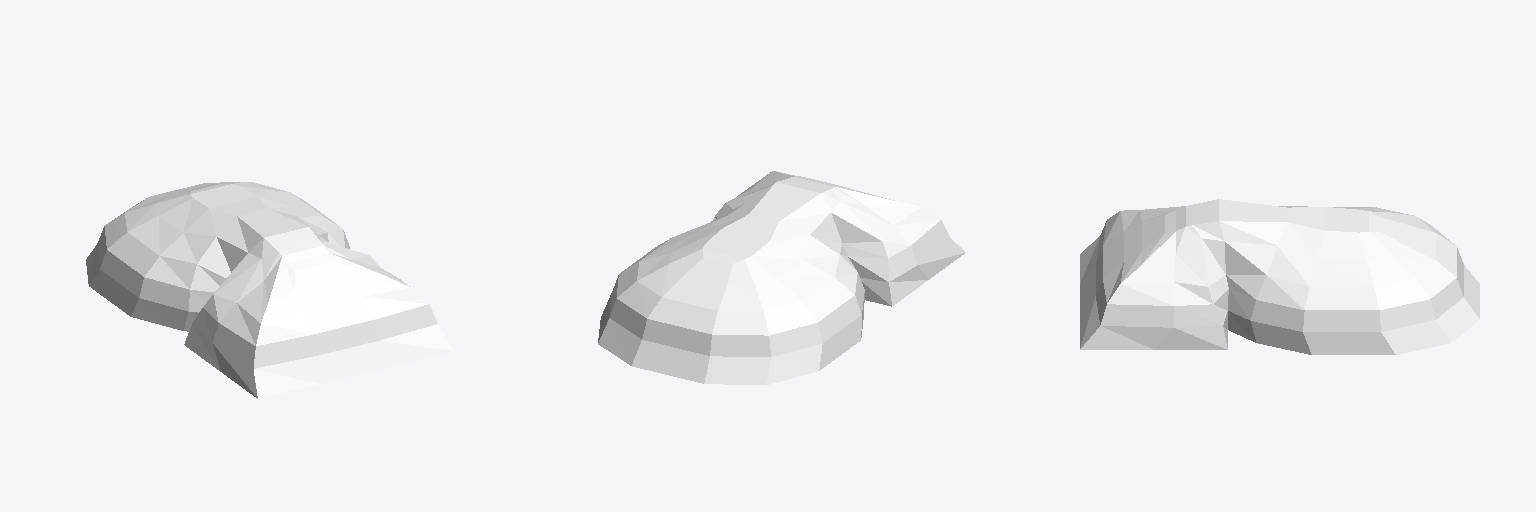
Rendered from roof_def.obj.
3 views of the same model, side by side, from view 1: azimuth 30°, elevation 25°; view 2: azimuth 150°, elevation 25°; view 3: azimuth 270°, elevation 25° (orthographic).
Visible parts, largest first — view 1: polySurface78; view 2: polySurface78; view 3: polySurface78.
Part boxes in pixels (left/top/right/bottom): polySurface78: left=86, top=182, right=453, bottom=398; polySurface78: left=598, top=171, right=965, bottom=384; polySurface78: left=1080, top=199, right=1479, bottom=354.
Size of the model in its own units: 35.4 by 14.23 by 56.16.